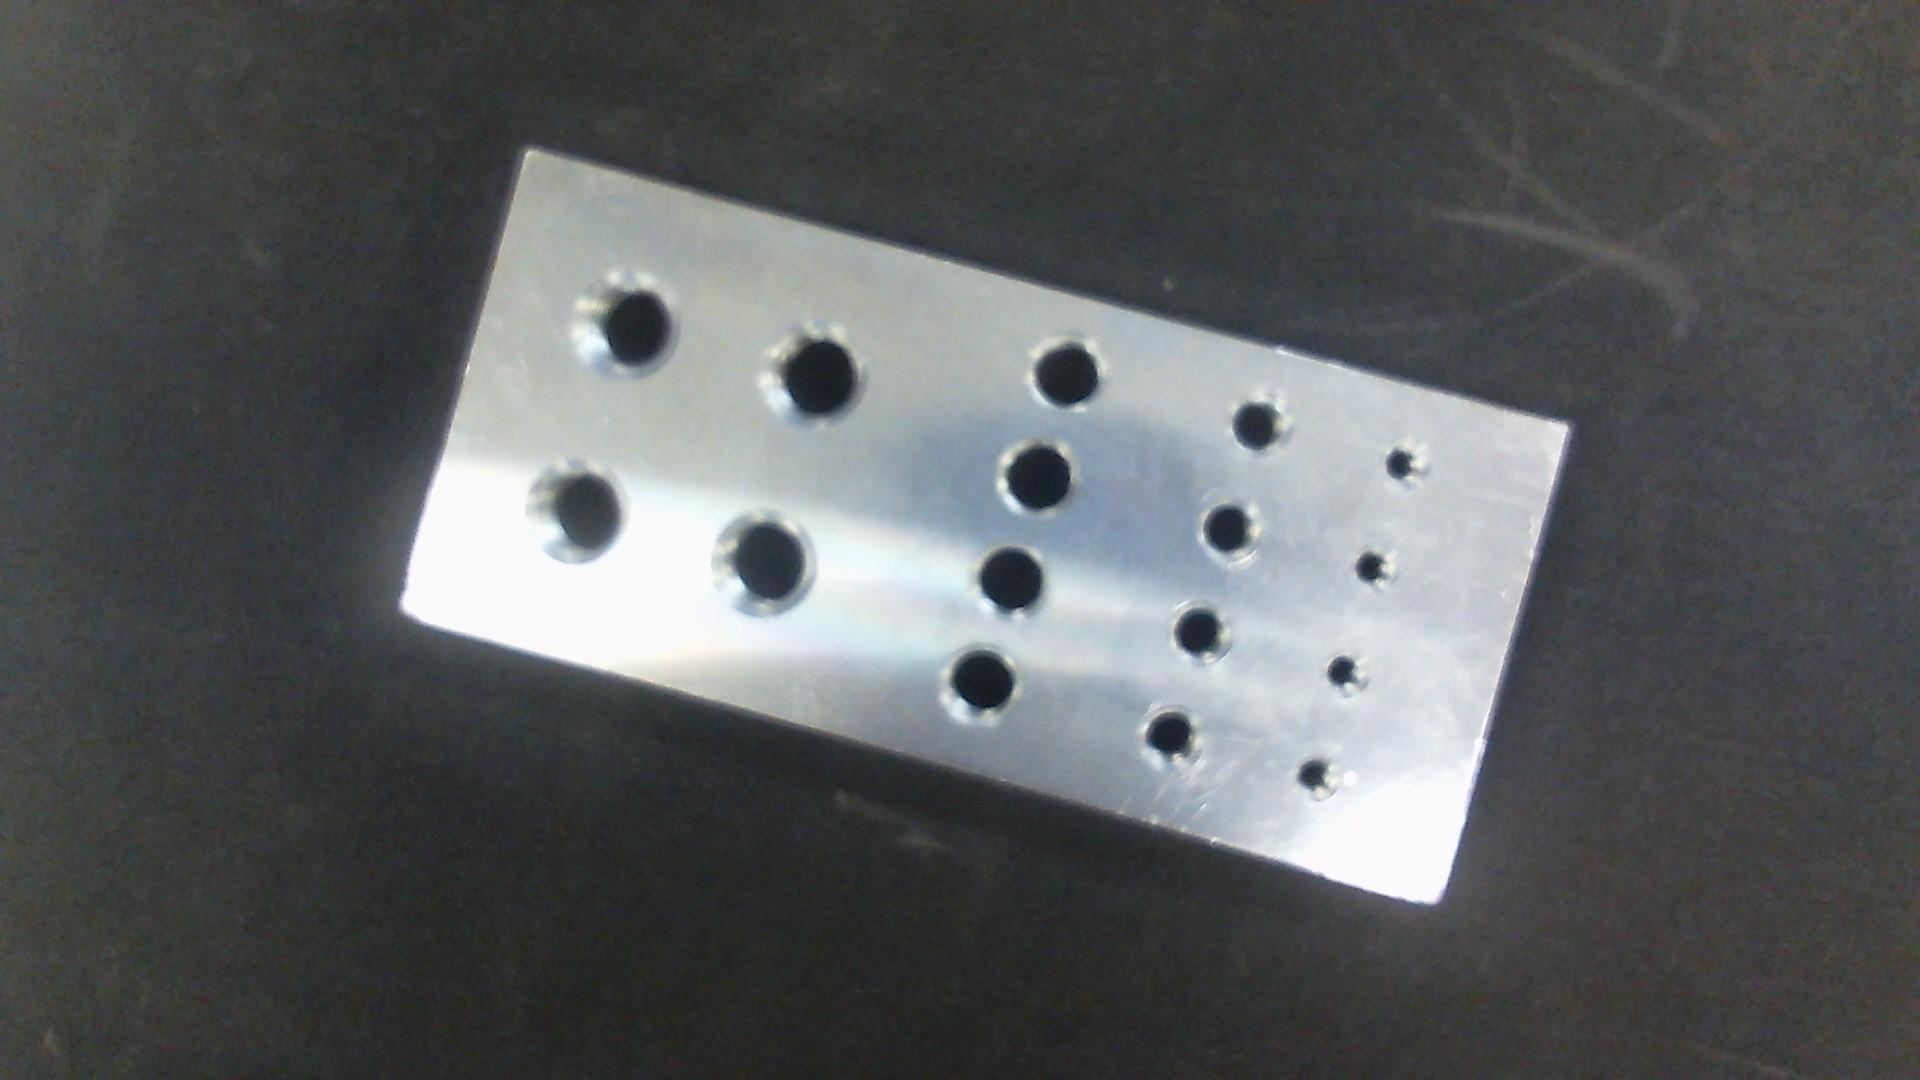hole: (556, 249, 698, 404), (691, 497, 837, 630), (514, 443, 646, 580), (756, 316, 874, 438), (930, 637, 1036, 735), (993, 429, 1091, 526), (1021, 327, 1110, 421), (971, 534, 1058, 628), (1127, 702, 1213, 775), (1189, 491, 1267, 571), (1164, 597, 1244, 673), (1225, 384, 1299, 464), (1365, 435, 1428, 492), (1291, 737, 1337, 807), (1344, 538, 1396, 593), (1321, 645, 1369, 696)
